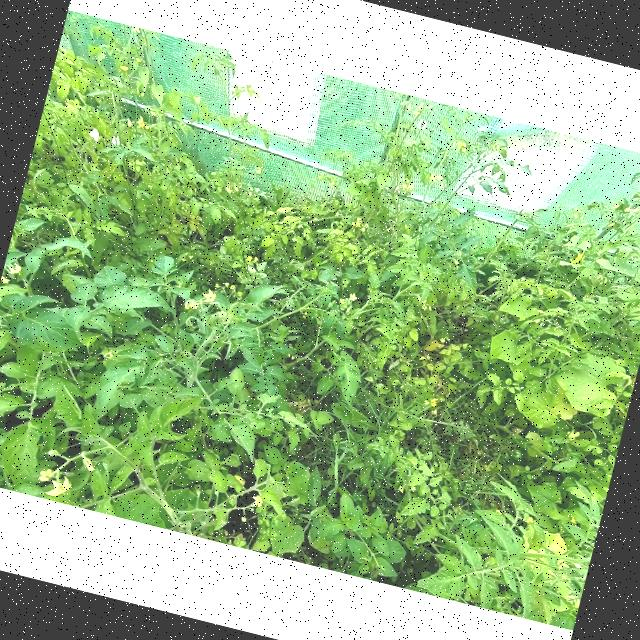Flowers: (34, 468, 73, 499), (201, 289, 216, 304), (248, 495, 264, 509), (7, 262, 22, 276), (184, 298, 199, 312), (134, 115, 144, 128), (0, 276, 12, 286), (348, 291, 358, 301), (117, 64, 129, 72), (354, 216, 362, 228), (401, 182, 413, 190), (434, 173, 444, 182), (457, 140, 467, 148), (422, 304, 431, 312), (428, 398, 436, 407), (396, 484, 404, 493), (254, 167, 262, 174), (428, 173, 436, 180), (186, 255, 194, 262), (252, 256, 259, 263), (431, 408, 438, 415), (246, 254, 252, 262), (406, 103, 412, 111), (418, 101, 424, 109), (438, 182, 444, 189), (612, 203, 619, 209), (358, 227, 366, 232), (223, 281, 229, 287), (340, 298, 346, 304), (333, 211, 339, 217), (624, 206, 630, 212), (409, 486, 415, 492), (416, 294, 420, 302), (230, 284, 235, 290), (236, 291, 242, 296), (135, 56, 140, 62), (414, 108, 418, 115), (422, 400, 428, 404), (180, 258, 186, 262), (148, 260, 154, 264), (461, 148, 466, 152), (214, 284, 218, 288), (364, 222, 368, 226), (634, 208, 638, 212), (351, 222, 354, 225)
